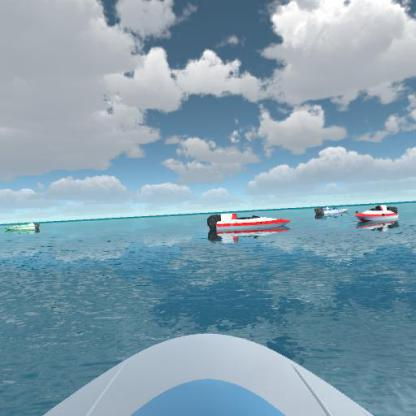usv0: (2, 217, 44, 239)
usv1: (311, 202, 351, 218)
usv3: (204, 206, 294, 243), (353, 204, 400, 228)
